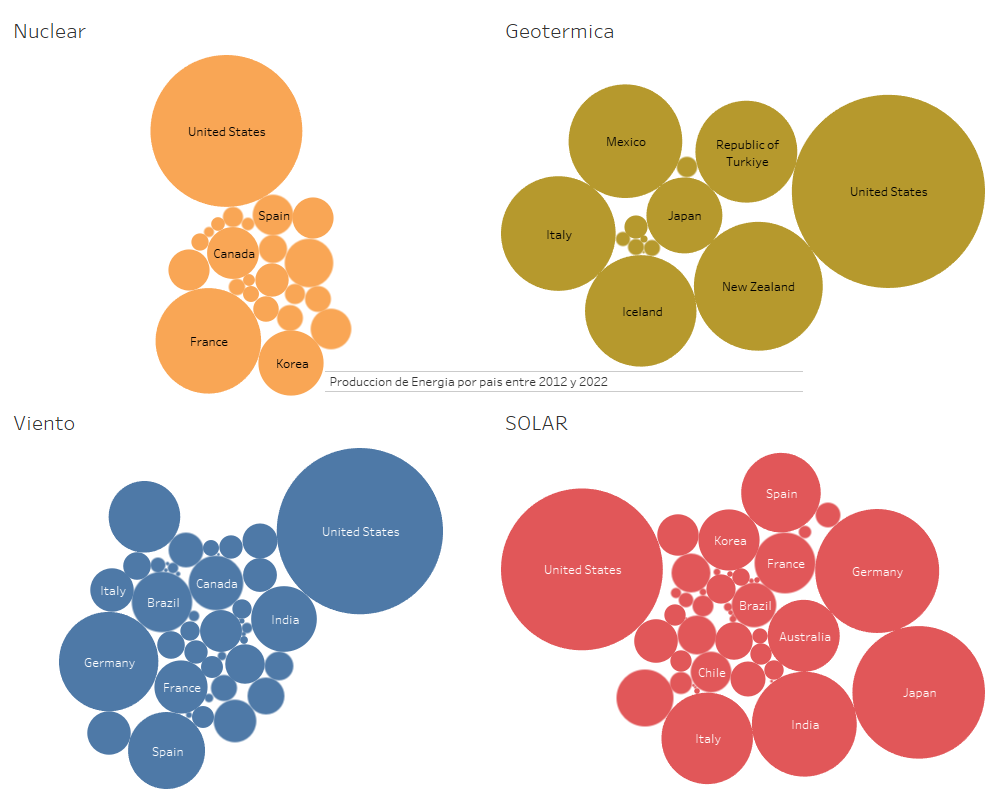

The page's visual inventory and layout, read from the dashboard file:
{"tool":"tableau","page":{"name":"Dashboard","canvas":[1000,800],"ordinal":0},"visuals":[{"type":"worksheet","title":"Circle Parking","mark":"Circle","box":[8,8,492,392]},{"type":"worksheet","title":"geo termal","mark":"Circle","box":[500,8,492,392]},{"type":"worksheet","title":"Sheet 5","mark":"Automatic","rows":["Calculation_1069886402093256706"],"box":[328,371,554,33]},{"type":"worksheet","title":"wind","mark":"Circle","box":[8,400,492,392]},{"type":"worksheet","title":"Circle Parking (2)","mark":"Circle","box":[500,400,492,392]}]}

Visuals, with their boxes in screenshot pixels (x1, y1, x2, y2), scaled from the page's 1000x800 canvas onto the 997x801 screenshot:
"Circle Parking" worksheet (Circle marks): (x1=8, y1=8, x2=498, y2=400)
"geo termal" worksheet (Circle marks): (x1=498, y1=8, x2=989, y2=400)
"Sheet 5" worksheet: (x1=327, y1=371, x2=879, y2=405)
"wind" worksheet (Circle marks): (x1=8, y1=400, x2=498, y2=793)
"Circle Parking (2)" worksheet (Circle marks): (x1=498, y1=400, x2=989, y2=793)
